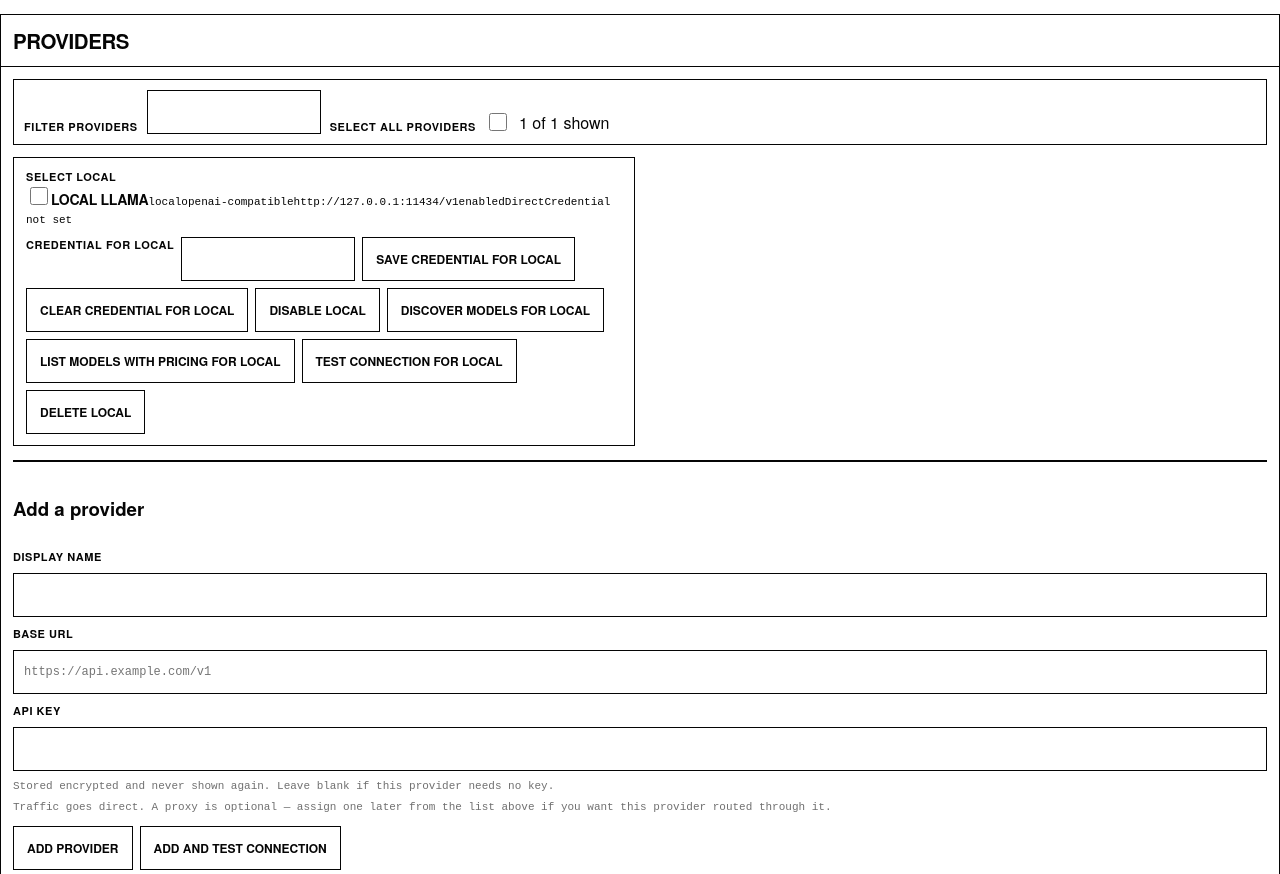
Scenario: ProvidersPanel › shows the envelope code and message when a write fails
Expected: the text "Local Llama" is shown, [51,189,148,209]
Type "token-value" into the password field labelled "Credential for local".
click(268, 259); type("token-value")  # box [181,237,355,281]
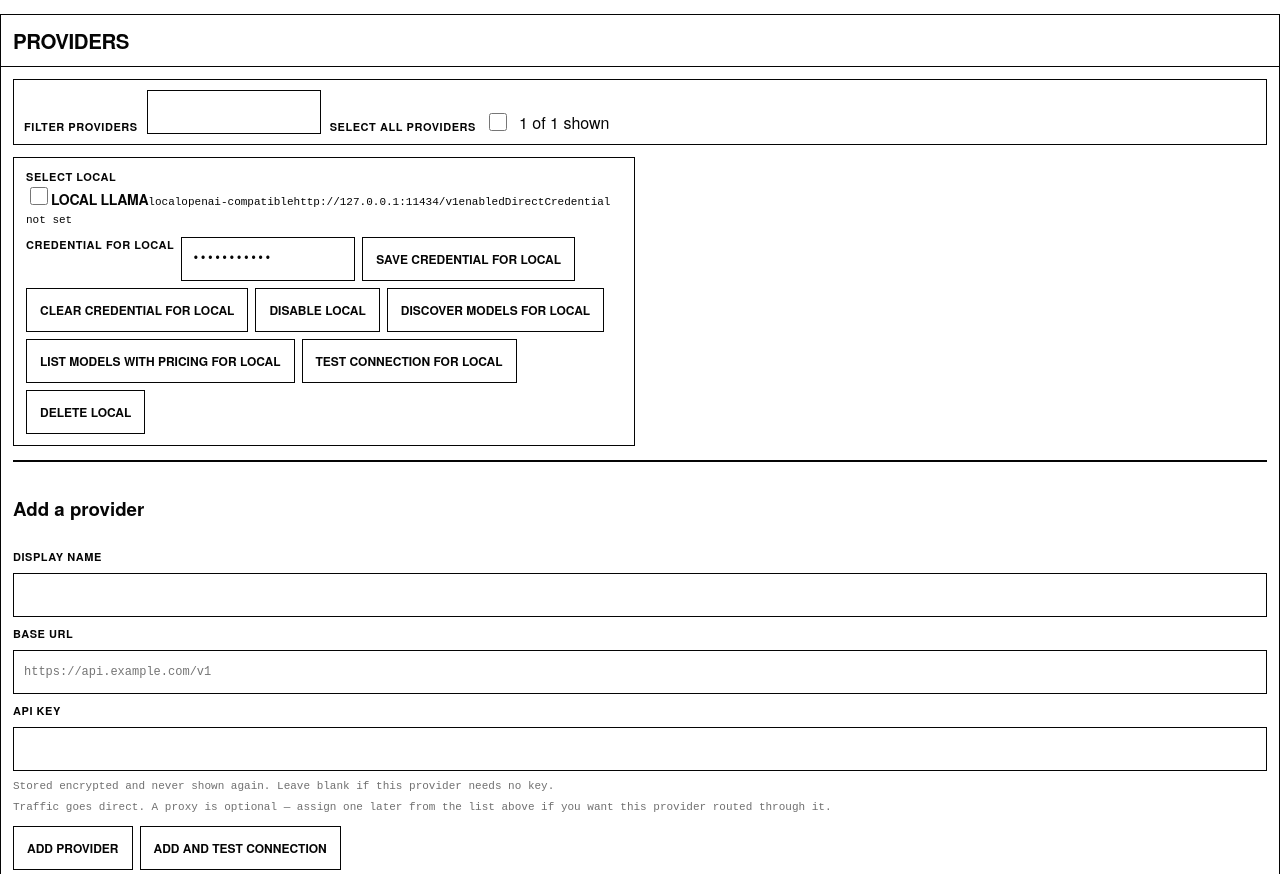
Click the button "Save credential for local".
click(469, 259)  # box [362,237,575,281]
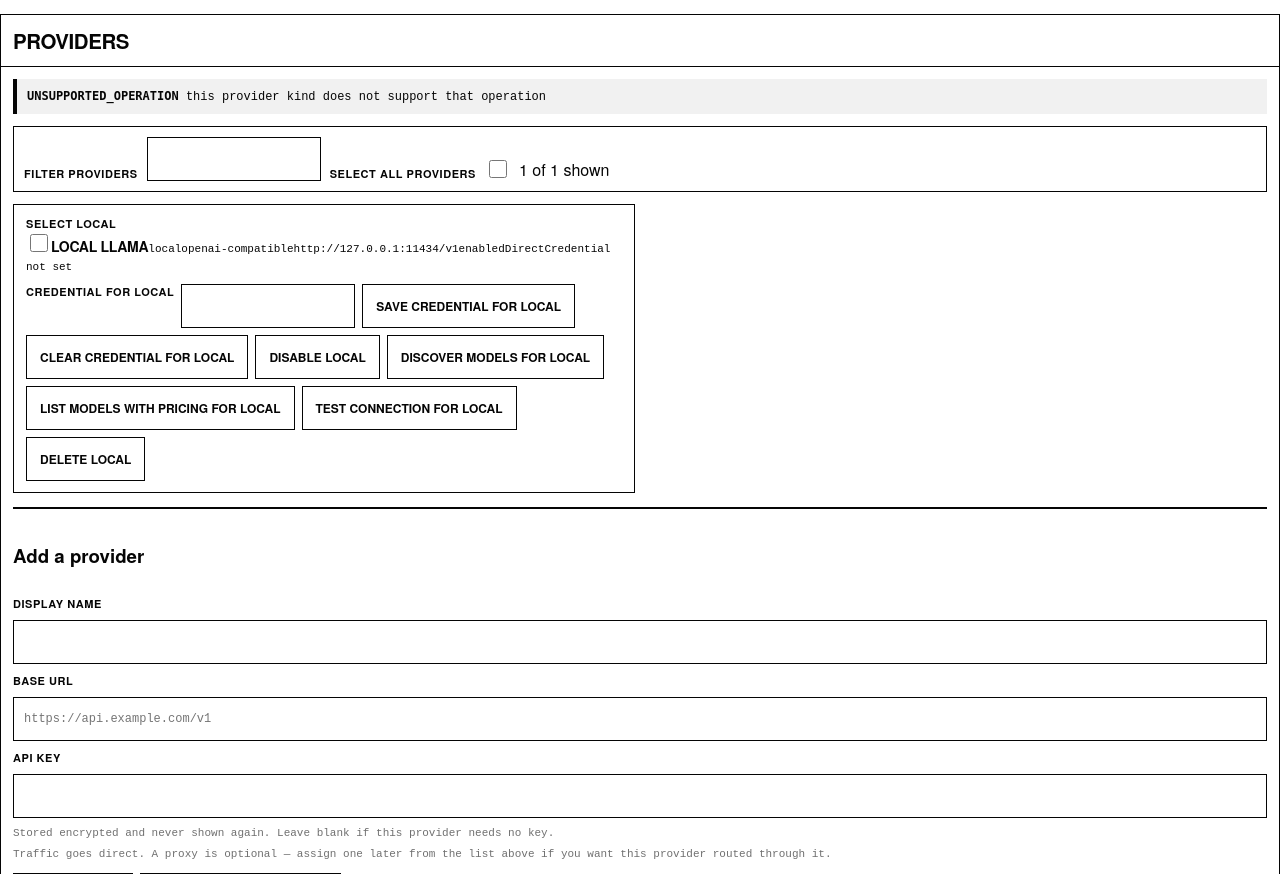
Result: the message shows "unsupported_operation" at [27,89,179,103]
Result: the message shows "does not support that operation" at [186,90,546,104]
